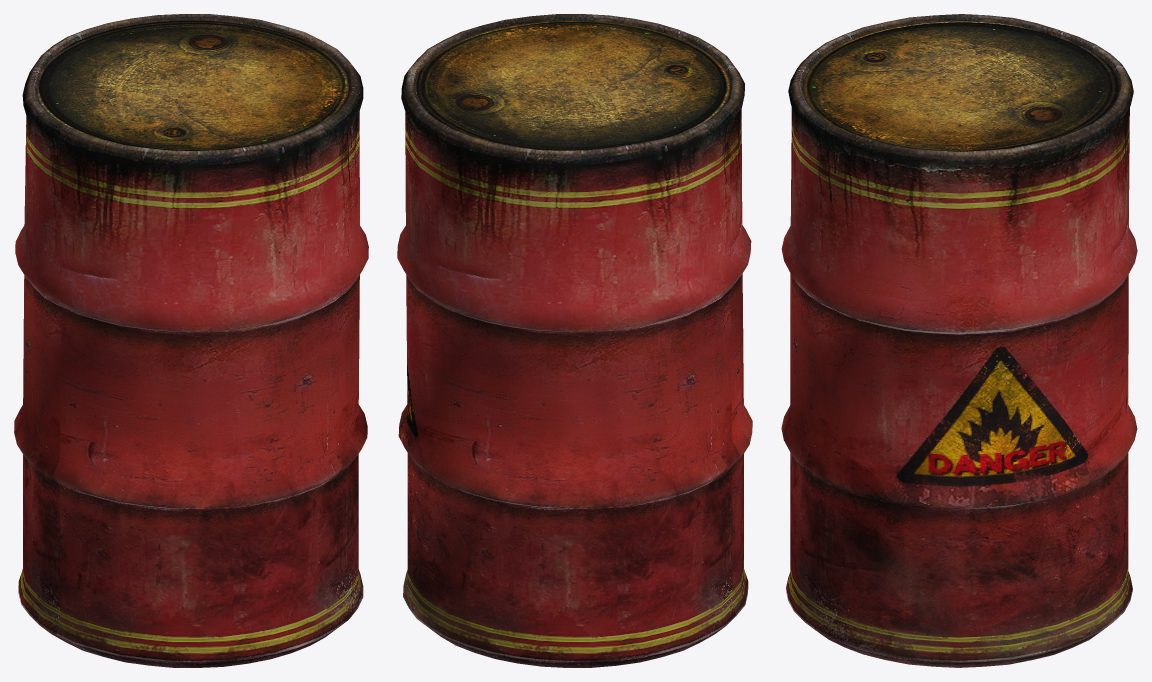
File: barrel.obj
The picture shows the model from 3 angles, left to right: view 1: azimuth 30°, elevation 25°; view 2: azimuth 150°, elevation 25°; view 3: azimuth 270°, elevation 25°; orthographic projection.
Bounding box in the file's own units: 1.66 × 2.65 × 1.65.
2 materials, 2 textured.
